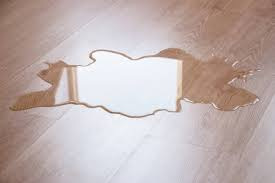Wet-floor: (12, 40, 272, 121)
